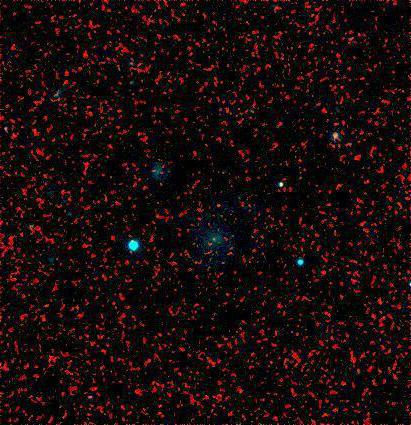star: (203, 194, 233, 224)
